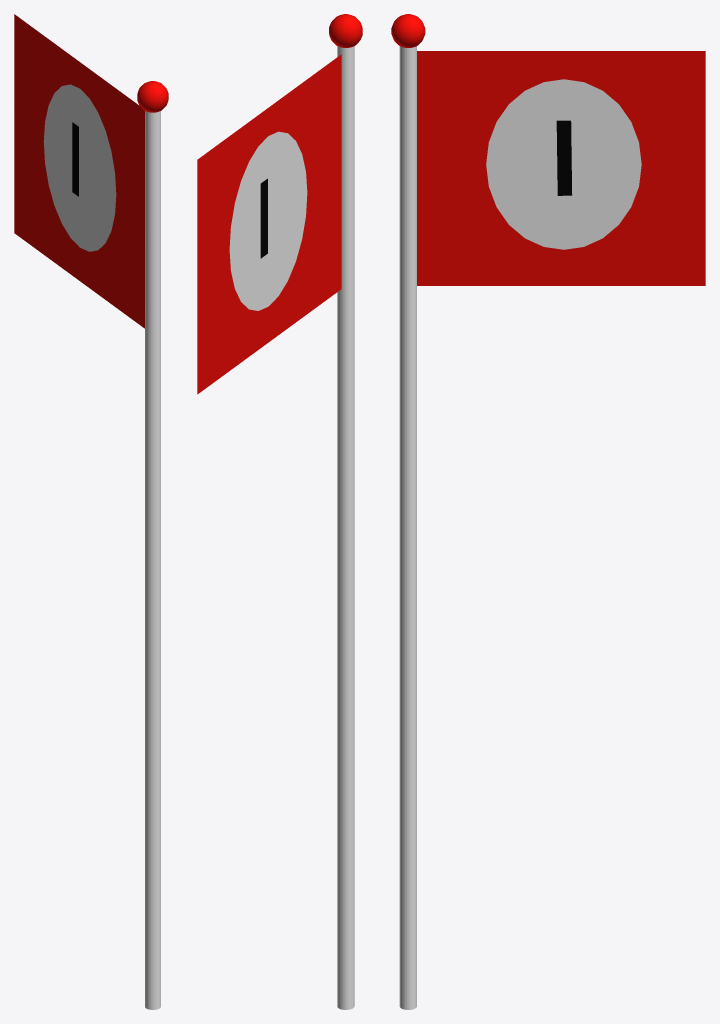
File: flag1.fbx
3 renders of one model, left to right at view 1: azimuth 30°, elevation 25°; view 2: azimuth 150°, elevation 25°; view 3: azimuth 270°, elevation 25°, orthographic. The views are drawn at different scales.
Visible parts, largest first — view 1: Cube, Cylinder, Circle, Sphere, 1; view 2: Cube, Cylinder, Circle, Sphere, 1; view 3: Cube, Circle, Cylinder, 1.001, Sphere.
Part boxes in pixels (x1,y1,x2,y2): Cube: [14, 14, 144, 328]; Cylinder: [145, 111, 160, 1009]; Circle: [43, 84, 116, 251]; Sphere: [137, 81, 168, 112]; 1: [72, 122, 78, 196]; Cube: [197, 54, 341, 394]; Cylinder: [337, 46, 354, 1009]; Circle: [229, 131, 307, 310]; Sphere: [329, 14, 362, 47]; 1: [260, 178, 267, 258]; Cube: [417, 51, 705, 285]; Circle: [486, 79, 641, 249]; Cylinder: [399, 46, 416, 1009]; 1.001: [556, 120, 572, 195]; Sphere: [391, 14, 425, 47].
Size of the model in its own units: 3.94 by 127 by 36.37.
